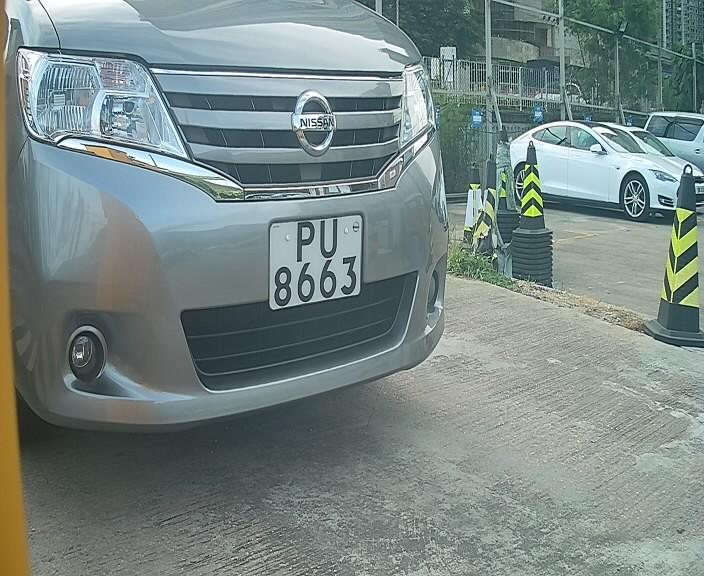License Plate: (255, 199, 371, 319)
